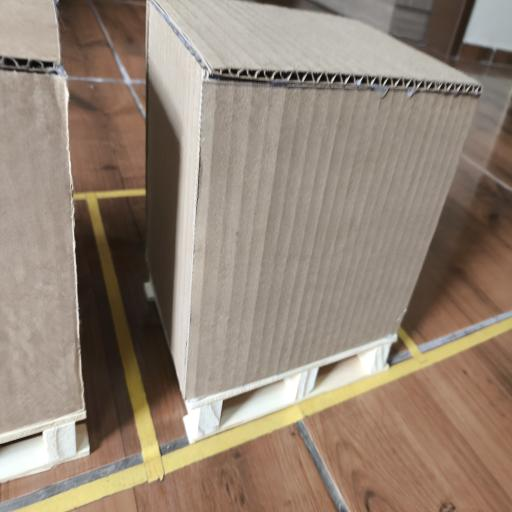pallet: (184, 335, 396, 442), (184, 337, 396, 442), (0, 422, 89, 482)
